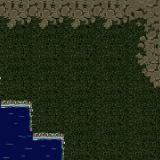Interaction: (42, 128, 80, 160), (0, 90, 40, 114), (26, 115, 42, 148)
Slow: (0, 106, 30, 160), (29, 141, 61, 160)
